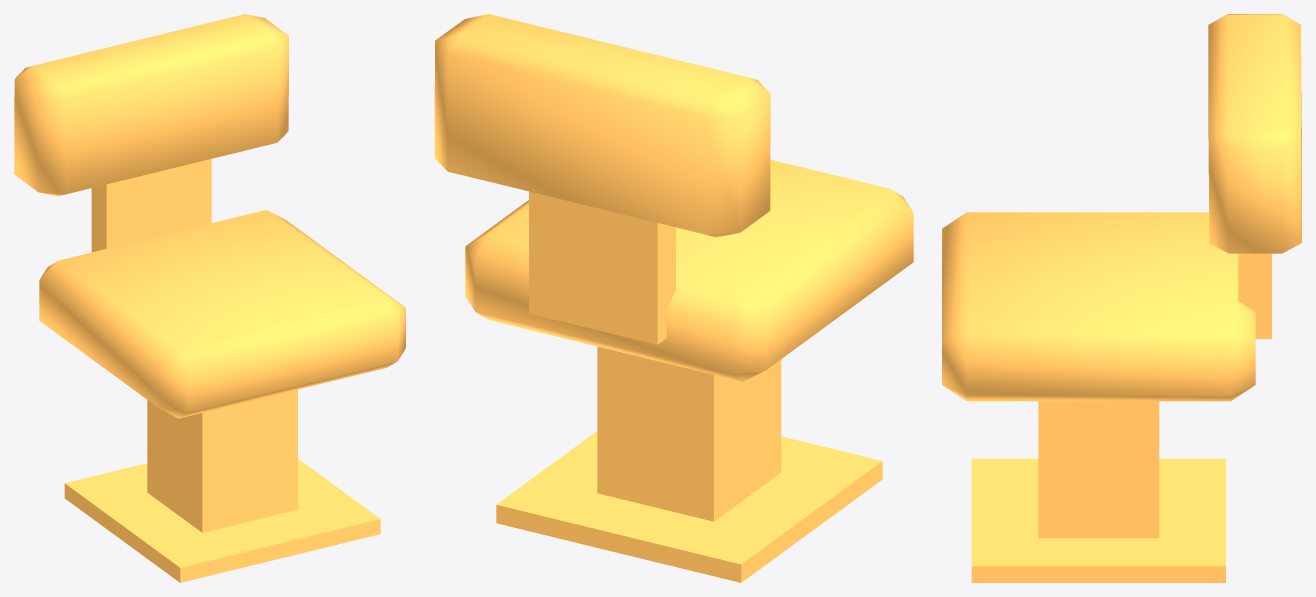
Rendered from mdl_L2Chair.fbx.
The picture shows the model from 3 angles, left to right: view 1: azimuth 30°, elevation 25°; view 2: azimuth 150°, elevation 25°; view 3: azimuth 270°, elevation 25°; orthographic projection. The views are drawn at different scales.
Visible parts, largest first — view 1: Cube_017; view 2: Cube_017; view 3: Cube_017.
Part boxes in pixels (x1,y1,x2,y2): Cube_017: (14,14,405,582); Cube_017: (434,14,913,582); Cube_017: (942,14,1301,582).
Bounding box in the file's own units: 0.8757 × 1.39 × 0.9904.
